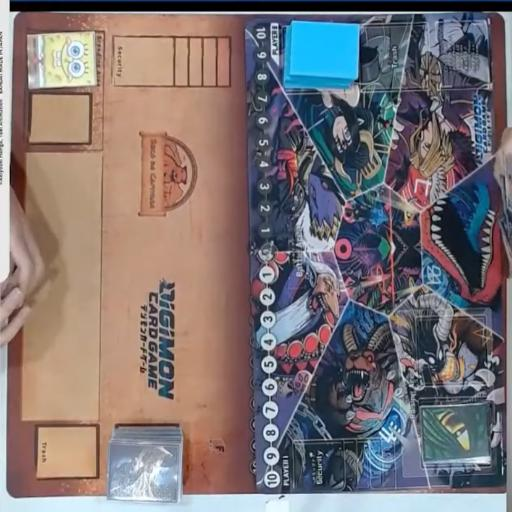card: (289, 21, 366, 78)
